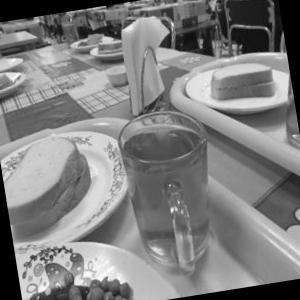bread: (0, 117, 113, 240), (198, 48, 290, 110)
tea: (102, 94, 240, 284)
